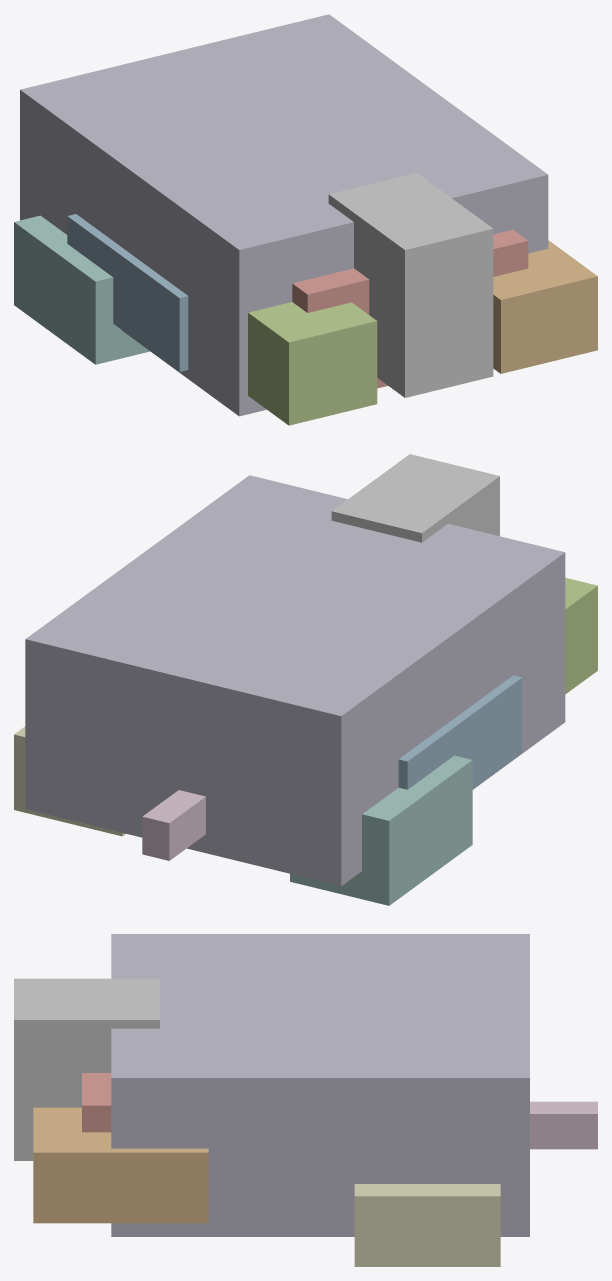
Rendered from turtle_bbox.glb.
3 views of the same model, one above another, from view 1: azimuth 30°, elevation 25°; view 2: azimuth 150°, elevation 25°; view 3: azimuth 270°, elevation 25° (orthographic). The views are drawn at different scales.
Parts seen in each view (by area): view 1: world; view 2: world; view 3: world.
Boxes of the visible parts, x1,y1,x2,y2 form: world: [14, 14, 597, 425]; world: [14, 454, 597, 905]; world: [14, 934, 597, 1266].
Size of the model in its own units: 0.6508 by 0.3492 by 0.9524.
